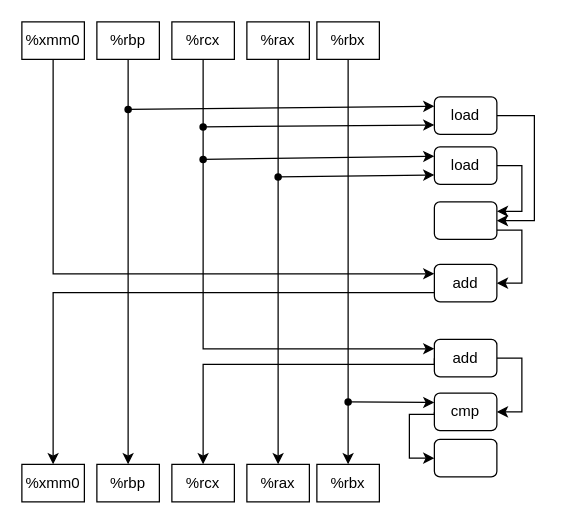
The diagram is 566 pixels wide and 524 high, and some of its shapes have lost their labels. The centre of each missing label's shape, as x and y in pixels:
jne: the point at 465,457
mul: the point at 465,220
